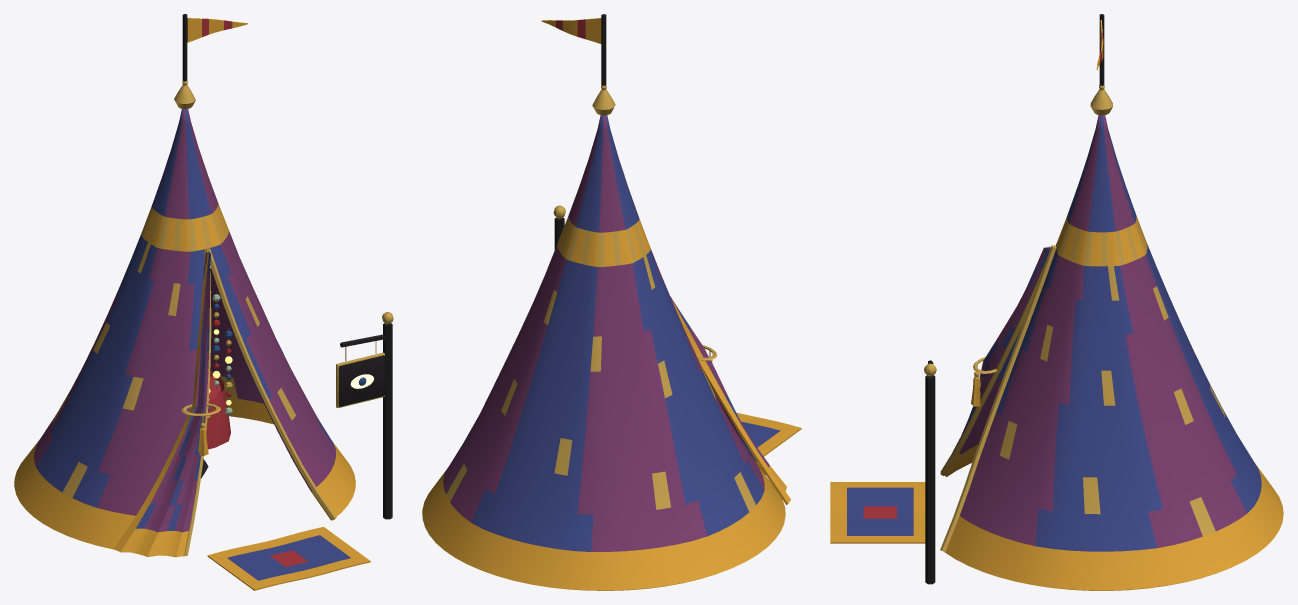
Rendered from deco_fortune_tent.fbx.
The picture shows the model from 3 angles, left to right: view 1: azimuth 30°, elevation 25°; view 2: azimuth 150°, elevation 25°; view 3: azimuth 270°, elevation 25°; orthographic projection. The views are drawn at different scales.
Parts seen in each view (by area): view 1: FortuneTent_Tent, FortuneTent_Flap, FortuneTent_Rug, FortuneTent_Sign, FortuneTent_Finial, FortuneTent_Table, FortuneTent_Beads; view 2: FortuneTent_Tent, FortuneTent_Flap, FortuneTent_Finial, FortuneTent_Rug; view 3: FortuneTent_Tent, FortuneTent_Rug, FortuneTent_Sign, FortuneTent_Flap, FortuneTent_Finial.
Part boxes in pixels (box(x1,y1,x2,y2)): FortuneTent_Tent: box(14, 109, 355, 556); FortuneTent_Flap: box(113, 251, 220, 557); FortuneTent_Rug: box(207, 527, 370, 590); FortuneTent_Sign: box(336, 312, 393, 519); FortuneTent_Finial: box(174, 14, 247, 109); FortuneTent_Table: box(201, 371, 230, 478); FortuneTent_Beads: box(207, 266, 232, 420); FortuneTent_Tent: box(422, 115, 785, 590); FortuneTent_Flap: box(670, 296, 790, 504); FortuneTent_Finial: box(541, 14, 615, 115); FortuneTent_Rug: box(736, 412, 801, 456); FortuneTent_Tent: box(940, 115, 1283, 590); FortuneTent_Rug: box(830, 482, 925, 543); FortuneTent_Sign: box(924, 360, 936, 584); FortuneTent_Flap: box(944, 246, 1050, 465); FortuneTent_Finial: box(1090, 14, 1112, 115).
Bounding box in the file's own units: 254 × 389 × 317.
